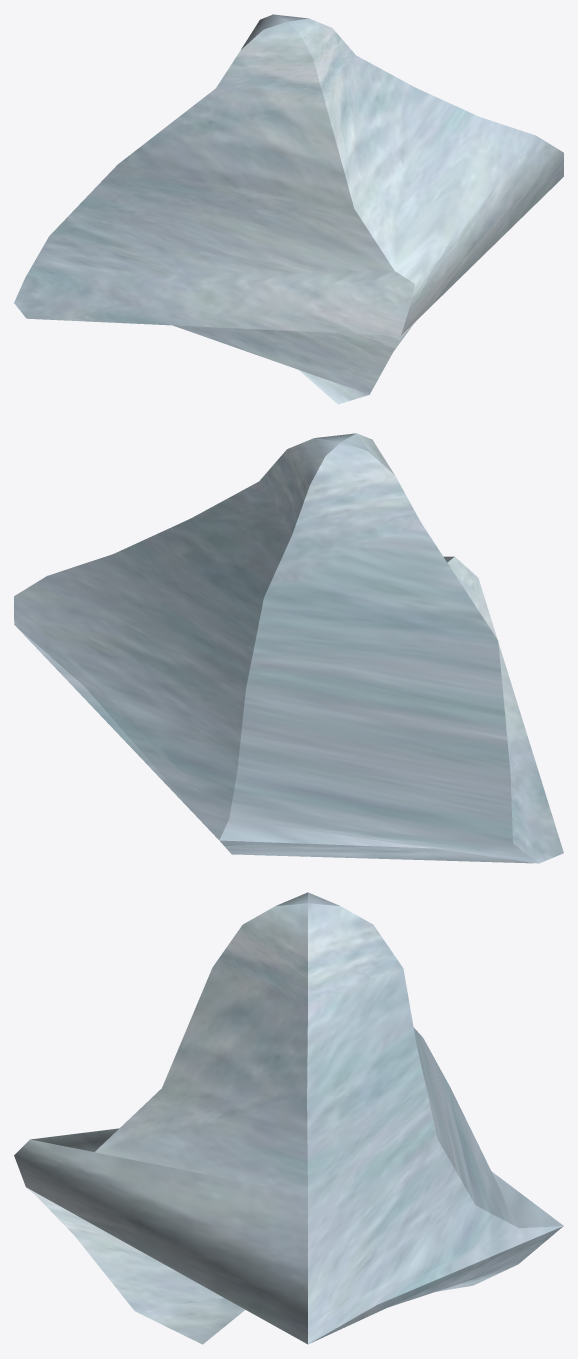
Rendered from BigIce_C.fbx.
3 views of the same model, one above another, from view 1: azimuth 30°, elevation 25°; view 2: azimuth 150°, elevation 25°; view 3: azimuth 270°, elevation 25° (orthographic). The views are drawn at different scales.
Visible parts, largest first — view 1: pPyramid2; view 2: pPyramid2; view 3: pPyramid2.
Boxes of the visible parts, bbox=[...] form: pPyramid2: bbox=[14, 14, 563, 404]; pPyramid2: bbox=[14, 433, 563, 863]; pPyramid2: bbox=[14, 892, 563, 1344].
Size of the model in its own units: 75.33 by 50.71 by 57.99.
1 material, 1 textured.
